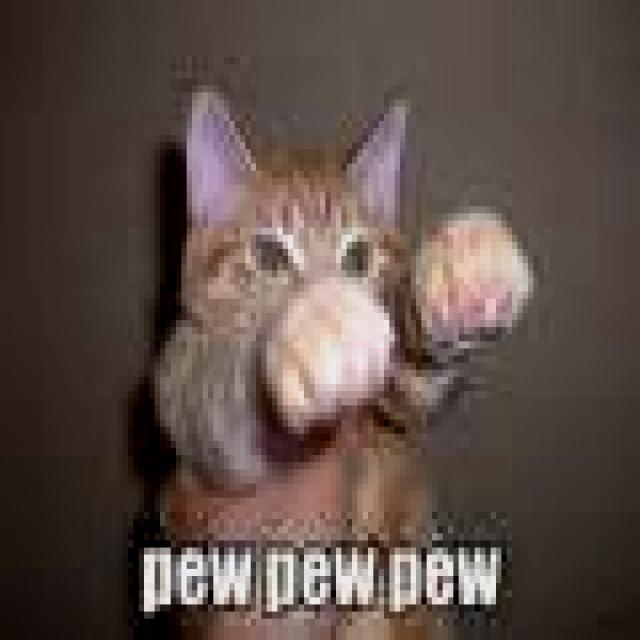KEDI: (155, 78, 540, 540)
